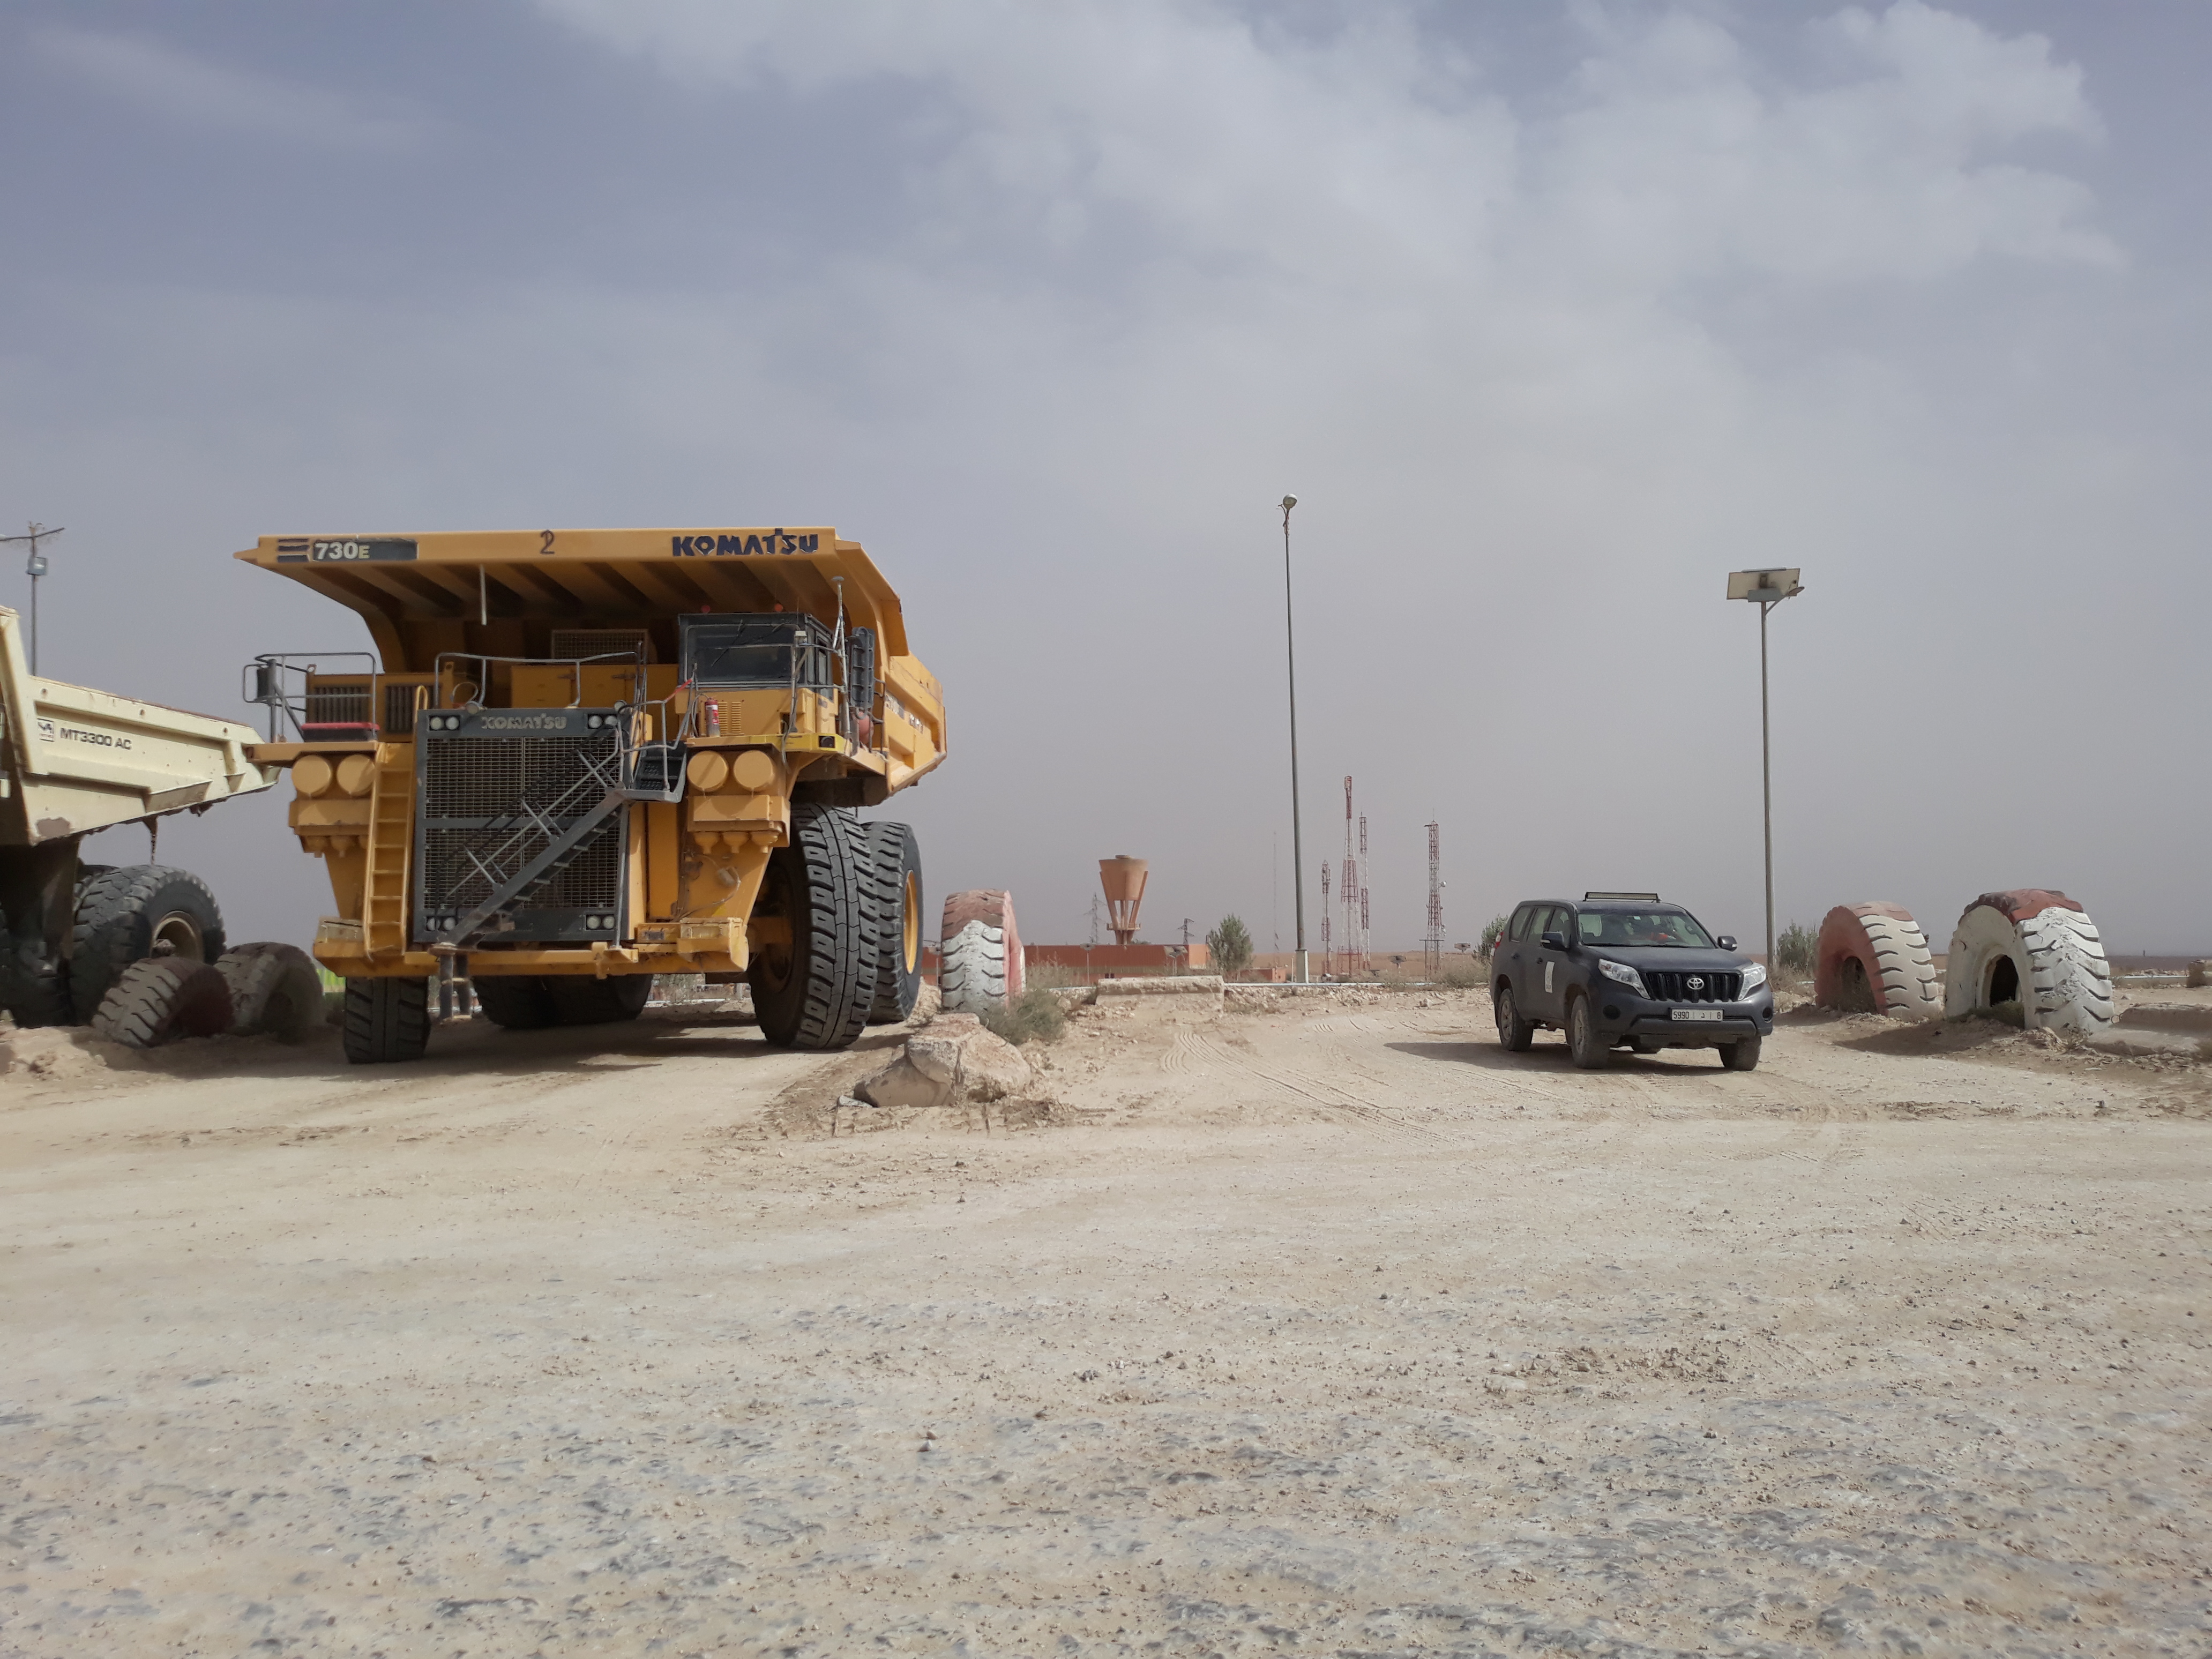camion: (219, 495, 977, 1110), (0, 580, 303, 1046)
car: (1474, 878, 1785, 1089)
